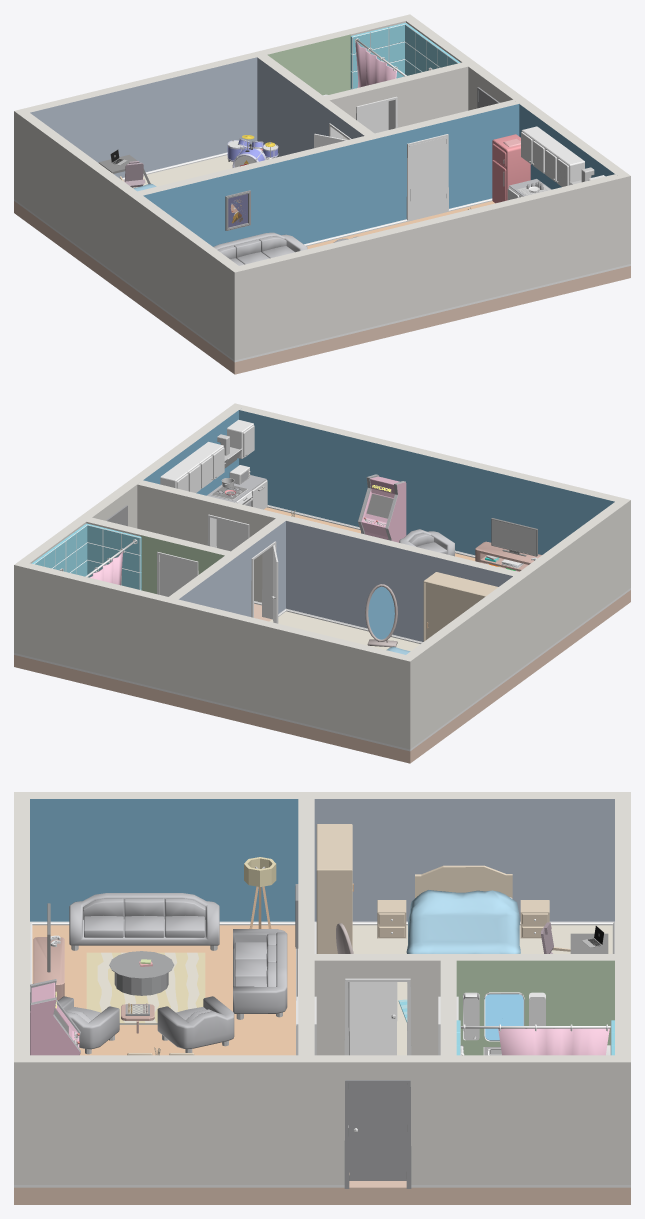
File: House.fbx
3 views of the same model, one above another, from view 1: azimuth 30°, elevation 25°; view 2: azimuth 150°, elevation 25°; view 3: azimuth 270°, elevation 25° (orthographic). The views are drawn at different scales.
Visible parts, largest first — view 1: wall_019, wall_021, wall_009, wall, ground, wall_007, wall_002, wall_016, wall_014, Bath, wall_012, kitchen (+10 smaller); view 2: wall_019, wall_009, wall_021, wall_012, wall, wall_002, ground, wall_007, wall_016, Bath, kitchen, Wardrobe (+11 smaller); view 3: wall_016, wall_009, ground, wall_007, sofa2, duvet, door_003, carpet1, sofa, Wardrobe, wall_021, wall_019 (+21 smaller).
Boxes of the visible parts, x1,y1,x2,y2 form: wall_019: [239, 174, 620, 357]; wall_021: [137, 99, 519, 246]; wall_009: [14, 108, 244, 360]; wall: [133, 55, 247, 175]; ground: [14, 155, 630, 374]; wall_007: [257, 55, 374, 157]; wall_002: [24, 82, 138, 178]; wall_016: [401, 14, 630, 266]; wall_014: [324, 60, 477, 139]; Bath: [350, 22, 460, 89]; wall_012: [266, 14, 415, 95]; kitchen: [507, 126, 605, 200]; wall_019: [239, 406, 620, 555]; wall_009: [400, 497, 630, 749]; wall_021: [137, 480, 519, 641]; wall_012: [14, 561, 162, 687]; wall: [182, 602, 296, 722]; wall_002: [291, 628, 405, 746]; ground: [14, 507, 630, 763]; wall_007: [169, 517, 285, 616]; wall_016: [14, 403, 244, 567]; Bath: [32, 523, 141, 590]; kitchen: [160, 419, 267, 509]; Wardrobe: [423, 572, 498, 641]; wall_016: [14, 1055, 630, 1184]; wall_009: [14, 792, 630, 921]; ground: [14, 925, 630, 1204]; wall_007: [311, 954, 615, 1055]; sofa2: [69, 893, 219, 950]; duvet: [406, 890, 520, 953]; door_003: [348, 1083, 407, 1180]; carpet1: [86, 952, 205, 1024]; sofa: [233, 929, 287, 1019]; Wardrobe: [316, 824, 353, 953]; wall_021: [298, 799, 314, 1055]; wall_019: [14, 798, 29, 1055].
Size of the model in its own units: 1474 by 362 by 1420.
